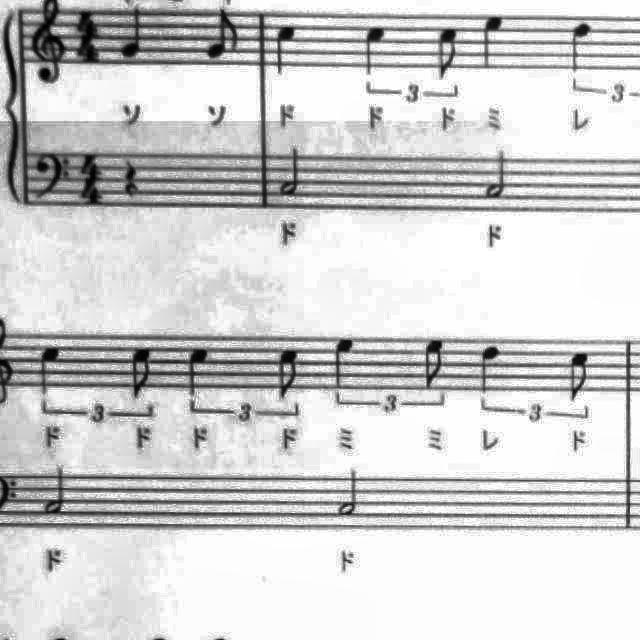Bass-clef: (32, 146, 78, 206)
Eighth-note: (200, 4, 244, 66), (429, 21, 467, 87), (123, 342, 161, 406), (269, 343, 307, 405), (416, 332, 450, 396), (562, 346, 596, 408)
Half-note: (479, 144, 516, 204), (38, 463, 74, 521), (274, 144, 308, 204), (334, 464, 368, 520)
Quarter-note: (474, 8, 512, 76), (178, 341, 216, 403), (268, 18, 304, 82), (562, 14, 598, 76), (356, 19, 392, 81), (32, 337, 66, 401), (472, 337, 508, 397), (326, 332, 362, 392), (118, 8, 150, 64)
Quarter-rest: (116, 152, 148, 204)
Treble-clef: (29, 2, 73, 90)
